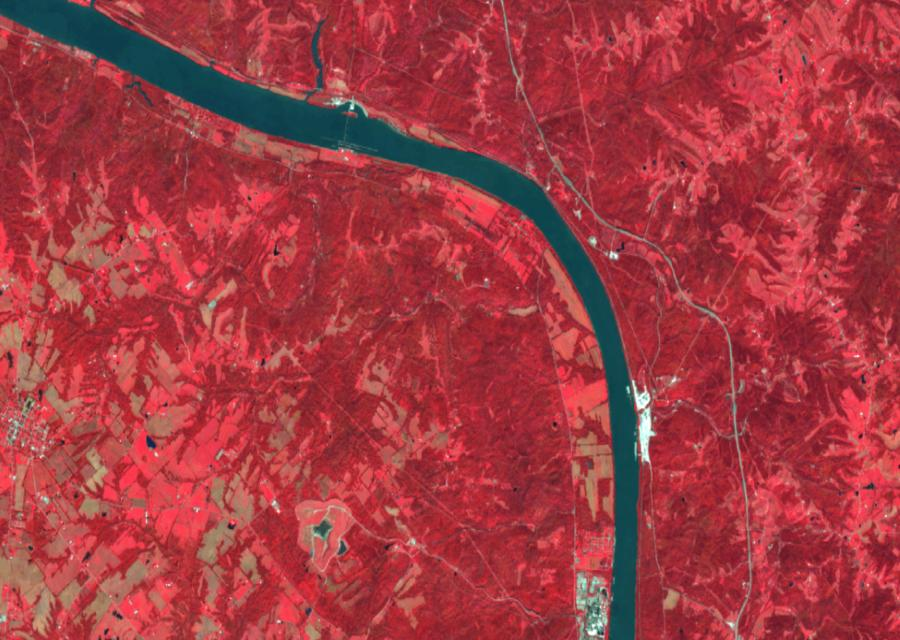Potential Lime Manufacturing Facility: (628, 371, 656, 468)
